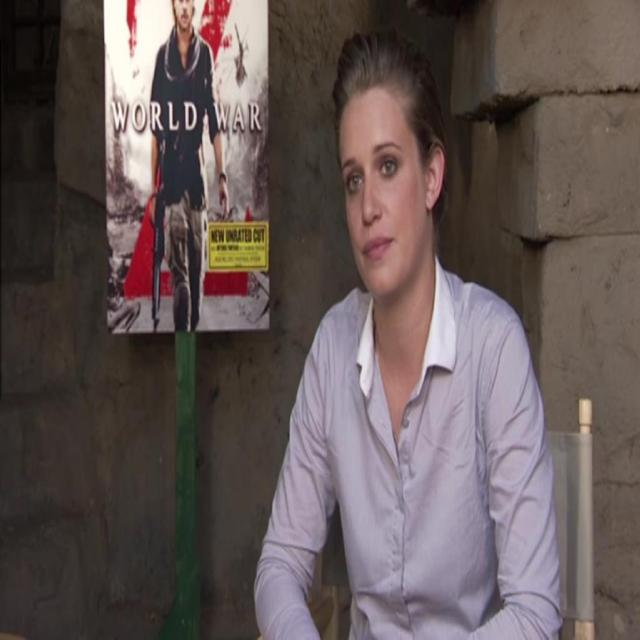Face: (342, 92, 420, 299)
